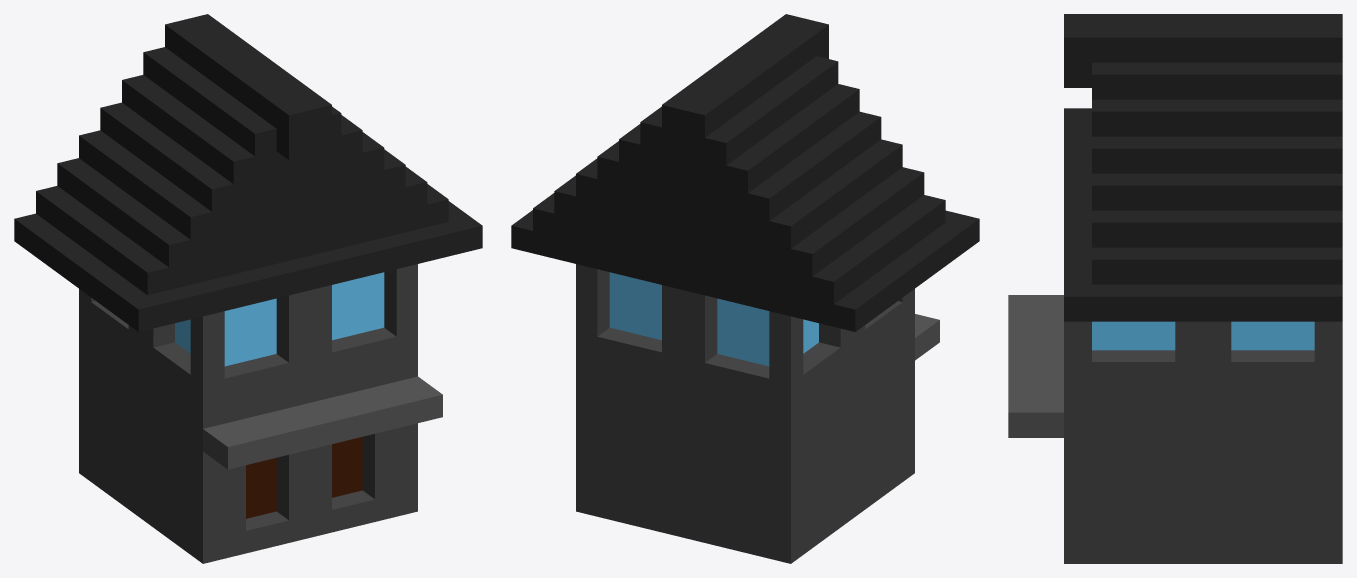
The model's file is House 3.obj.
The picture shows the model from 3 angles, left to right: view 1: azimuth 30°, elevation 25°; view 2: azimuth 150°, elevation 25°; view 3: azimuth 270°, elevation 25°; orthographic projection. The views are drawn at different scales.
Size of the model in its own units: 1.6 by 1.9 by 1.2.
1 material, 1 textured.
